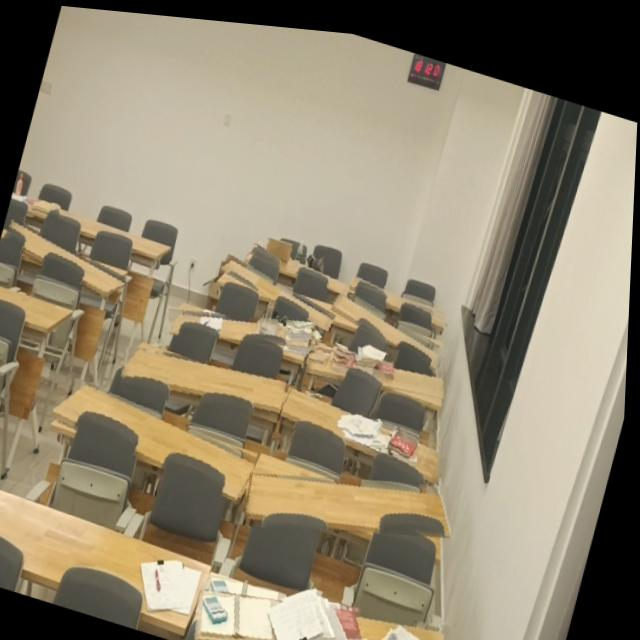Non-empty: (0, 488, 216, 635), (282, 380, 445, 478), (200, 584, 451, 640), (311, 340, 447, 390), (252, 232, 353, 288), (171, 308, 318, 341), (12, 185, 63, 220)
empty: (56, 381, 259, 497), (250, 468, 454, 529), (125, 345, 289, 414), (3, 222, 128, 293), (336, 281, 441, 362), (221, 253, 338, 320), (351, 270, 448, 319)
